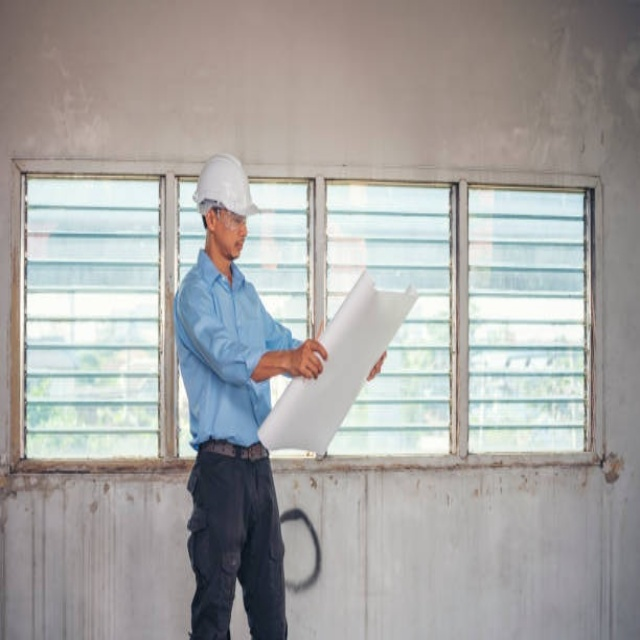Gafas: (211, 207, 248, 233)
Sin_guantes: (292, 333, 330, 383)
Sin_mascara: (230, 234, 245, 256)
